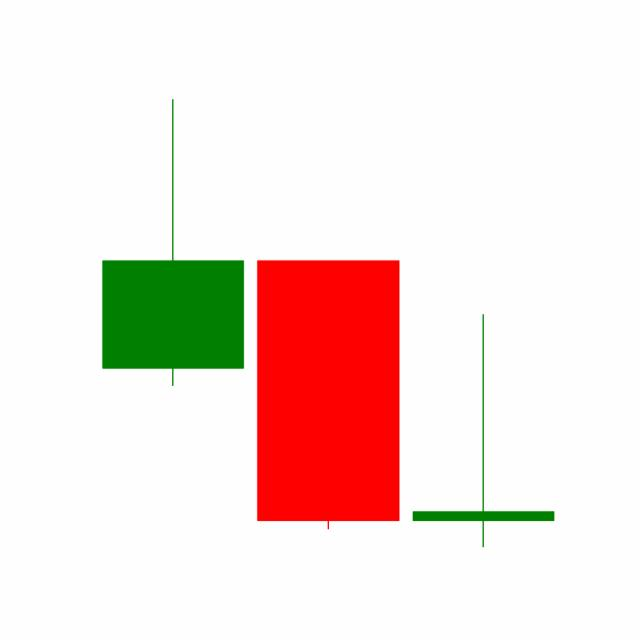Marubozu: (249, 258, 406, 532)
